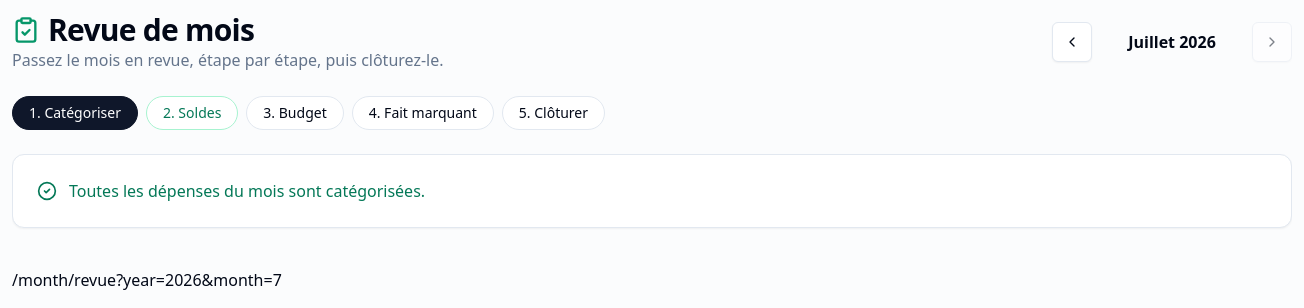
Scenario: MonthReview : chargement › mois suivant bloqué au mois en cours ; mois précédent écrit l'adresse
This screenshot has width=1304, height=308.
Check: the button named "Mois suivant" is disabled, box [1252,22,1292,62]
Click the button named "Mois précédent" at (1072, 42), box [1052,22,1092,62]
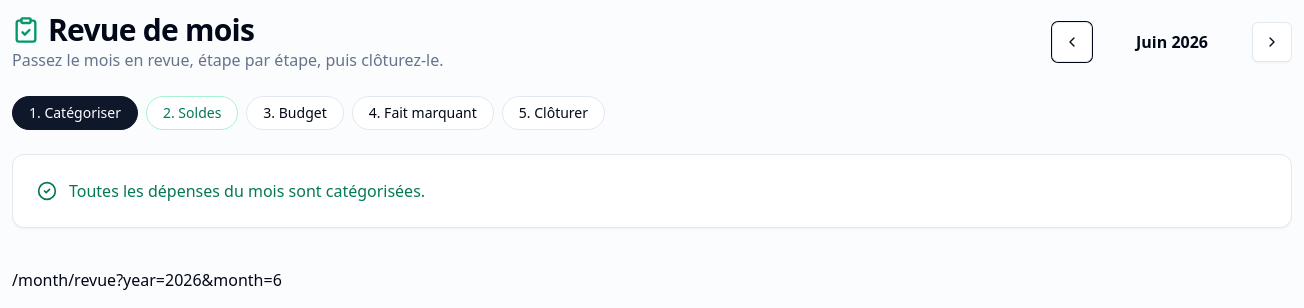
Check: the button named "Mois suivant" is enabled, box [1252,22,1292,62]
Check: the text named "adresse" reads "/month/revue?year=2026&month=6", box [12,269,282,291]
Check: the text "juin 2026" is shown, box [1136,31,1208,53]
